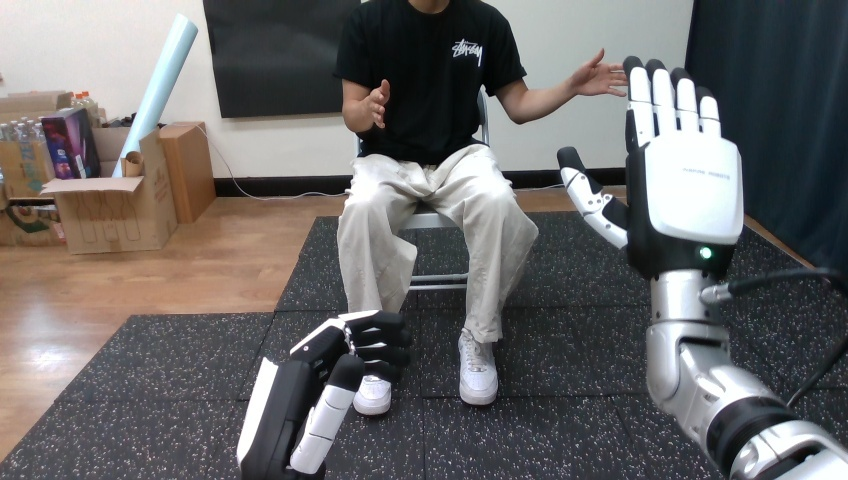left robot hand: (558, 57, 847, 479), (237, 310, 410, 478)
